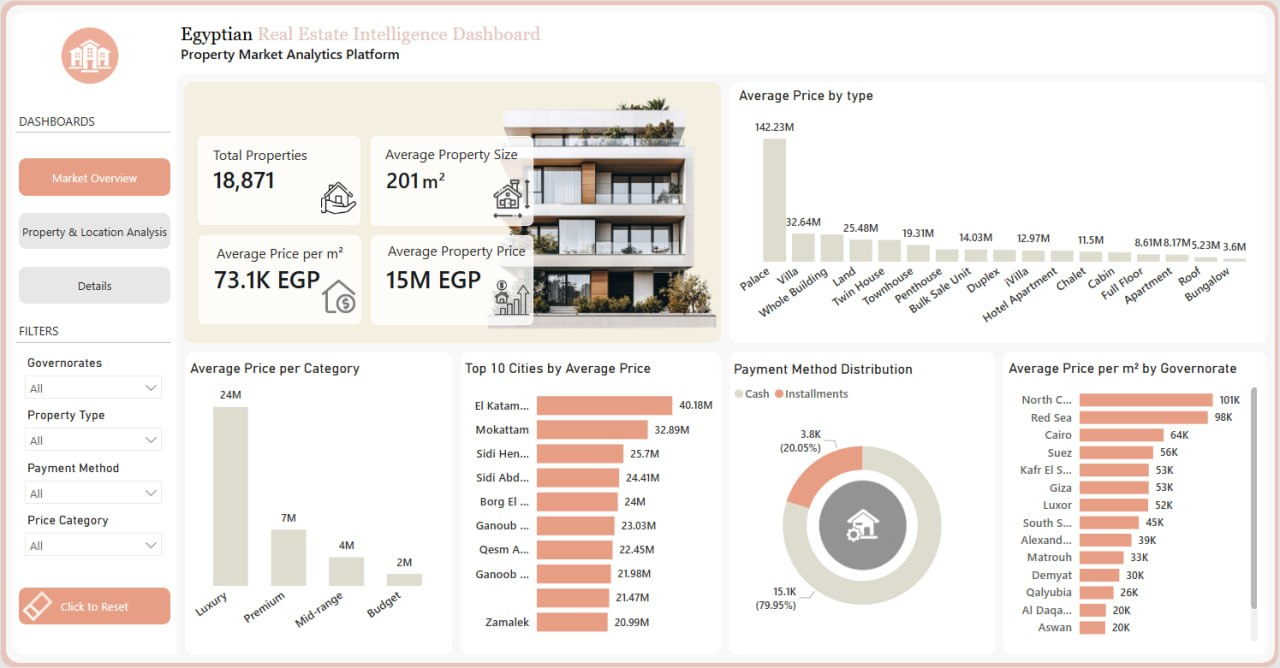

Layout of this report page (visuals, bound fields, positions):
{"tool":"powerbi","page":{"name":"Market Overview","canvas":[1520,800],"ordinal":0},"visuals":[{"type":"shape","box":[17.2,10.3,1492,779],"z":0},{"type":"shape","box":[23,14.9,1482,769],"z":1000},{"type":"shape","box":[29.9,23,1465.5,751.7],"z":2000},{"type":"shape","box":[221.9,95.1,1282,687.5],"z":3000},{"type":"shape","box":[230.7,105.1,627.5,305],"z":4000},{"type":"image","box":[568.2,77.6,303.8,355],"z":5000},{"type":"cardVisual","title":"Total Units","fields":{"Data":["_measure.Total Properties"]},"box":[247.1,167.8,190,104.6],"z":6000},{"type":"image","box":[37.9,32.2,174.7,87.4],"z":7000},{"type":"shape","box":[868.2,105.1,627.5,305],"z":8000},{"type":"shape","box":[233.2,420.1,311.2,355],"z":9000},{"type":"shape","box":[554.4,420.1,303.8,355],"z":10000},{"type":"shape","box":[868.2,420.1,310,355],"z":11000},{"type":"shape","box":[1188.2,420.1,307.5,355],"z":12000},{"type":"textbox","box":[221.9,31.4,521.2,63.8],"z":13000},{"type":"textbox","box":[32.5,136.2,300,48.8],"z":14000},{"type":"shape","box":[34.5,75.9,180.5,174.7],"z":15000},{"type":"textbox","box":[32.5,381.2,300,48.8],"z":16000},{"type":"shape","box":[34.5,321.8,180.5,174.7],"z":17000},{"type":"pageNavigator","box":[37.5,193.8,177.5,43.8],"z":18000},{"type":"pageNavigator","box":[37.5,257.5,177.5,42.5],"z":19000},{"type":"actionButton","box":[37.5,696.2,177.5,42.5],"z":20000},{"type":"textbox","box":[260,173.8,143.8,35],"z":21000},{"type":"cardVisual","title":"Total Units","fields":{"Data":["_measure.AVG Size"]},"box":[448.8,167.5,190,105],"z":22000},{"type":"textbox","box":[461.2,172.5,198.8,35],"z":23000},{"type":"cardVisual","title":"Total Units","fields":{"Data":["_measure.Average Price per m² (K)"]},"box":[247.5,283.8,190,103.8],"z":24000},{"type":"textbox","box":[263.8,288.8,198.8,35],"z":25000},{"type":"cardVisual","title":"Total Units","fields":{"Data":["_measure.AVG Price"]},"box":[448.8,283.8,190,105],"z":26000},{"type":"textbox","box":[464.3,285.7,241.4,35.7],"z":27000},{"type":"textbox","box":[503.8,201.2,80,40],"z":28000},{"type":"image","box":[388.8,220,45,41.2],"z":29000},{"type":"image","box":[388.8,331.2,45,47.5],"z":30000},{"type":"image","box":[591.2,217.5,45,46.2],"z":31000},{"type":"image","box":[591.2,336.2,45,41.2],"z":32000},{"type":"columnChart","title":"Average Price per Category","fields":{"Y":["_measure.AVG Price"],"Category":["dim_property.price_category"]},"box":[233,430,311,334],"z":33000},{"type":"columnChart","title":"Average Price by type","fields":{"Category":["dim_property.type"],"Y":["_measure.AVG Price"]},"box":[873.8,111.2,616.2,288.8],"z":34000},{"type":"slicer","fields":{"Values":["dim_location.governorate"]},"box":[35,420,180,61.2],"z":35000},{"type":"slicer","fields":{"Values":["dim_property.type"]},"box":[35,481.2,180,61.2],"z":36000},{"type":"slicer","fields":{"Values":["dim_payment.payment_method"]},"box":[35,542.5,180,61.2],"z":37000},{"type":"slicer","fields":{"Values":["dim_property.price_category"]},"box":[35,603.8,180,61.2],"z":38000},{"type":"clusteredBarChart","title":"Top 10 Cities by Average Price","fields":{"Y":["_measure.AVG Price"],"Category":["dim_location.city"]},"box":[554,430,305,334],"z":39000},{"type":"donutChart","title":"Payment Method Distribution","fields":{"Category":["dim_payment.payment_method"],"Y":["_measure.Total Properties"]},"box":[868,431,310,338],"z":40000},{"type":"image","box":[952.5,566.2,135,113.8],"z":41000},{"type":"barChart","title":"Average Price per m² by Governorate","fields":{"Category":["dim_location.governorate"],"Y":["_measure.AVG Price per SQM"]},"box":[1188.6,430,301.4,334.3],"z":42000},{"type":"pageNavigator","box":[37.5,321.2,177.5,42.5],"z":42001}]}

Visuals, with their boxes in screenshot pixels (x1, y1, x2, y2), scaled from the page's 1520x800 canvas onto the 1280x668 screenshot:
shape: box(14, 9, 1271, 659)
shape: box(19, 12, 1267, 655)
shape: box(25, 19, 1259, 647)
shape: box(187, 79, 1266, 653)
shape: box(194, 88, 723, 342)
image: box(478, 65, 734, 361)
"Total Units" cardVisual: box(208, 140, 368, 227)
image: box(32, 27, 179, 100)
shape: box(731, 88, 1260, 342)
shape: box(196, 351, 458, 647)
shape: box(467, 351, 723, 647)
shape: box(731, 351, 992, 647)
shape: box(1001, 351, 1260, 647)
textbox: box(187, 26, 626, 79)
textbox: box(27, 114, 280, 154)
shape: box(29, 63, 181, 209)
textbox: box(27, 318, 280, 359)
shape: box(29, 269, 181, 415)
pageNavigator: box(32, 162, 181, 198)
pageNavigator: box(32, 215, 181, 250)
actionButton: box(32, 581, 181, 617)
textbox: box(219, 145, 340, 174)
"Total Units" cardVisual: box(378, 140, 538, 228)
textbox: box(388, 144, 556, 173)
"Total Units" cardVisual: box(208, 237, 368, 324)
textbox: box(222, 241, 390, 270)
"Total Units" cardVisual: box(378, 237, 538, 325)
textbox: box(391, 239, 594, 268)
textbox: box(424, 168, 492, 201)
image: box(327, 184, 365, 218)
image: box(327, 277, 365, 316)
image: box(498, 182, 536, 220)
image: box(498, 281, 536, 315)
"Average Price per Category" columnChart: box(196, 359, 458, 638)
"Average Price by type" columnChart: box(736, 93, 1255, 334)
slicer - dim_location.governorate: box(29, 351, 181, 402)
slicer - dim_property.type: box(29, 402, 181, 453)
slicer - dim_payment.payment_method: box(29, 453, 181, 504)
slicer - dim_property.price_category: box(29, 504, 181, 555)
"Top 10 Cities by Average Price" clusteredBarChart: box(467, 359, 723, 638)
"Payment Method Distribution" donutChart: box(731, 360, 992, 642)
image: box(802, 473, 916, 568)
"Average Price per m² by Governorate" barChart: box(1001, 359, 1255, 638)
pageNavigator: box(32, 268, 181, 304)
